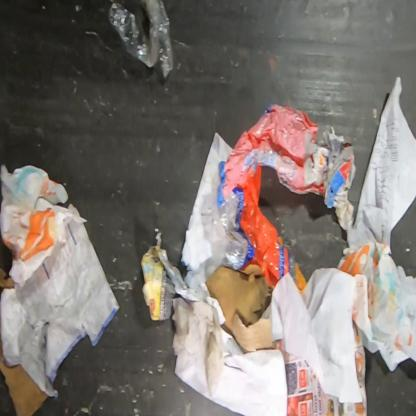cardboard: (0, 265, 50, 415), (205, 264, 278, 354)
soft_plastic: (213, 103, 325, 293), (105, 0, 175, 80)
